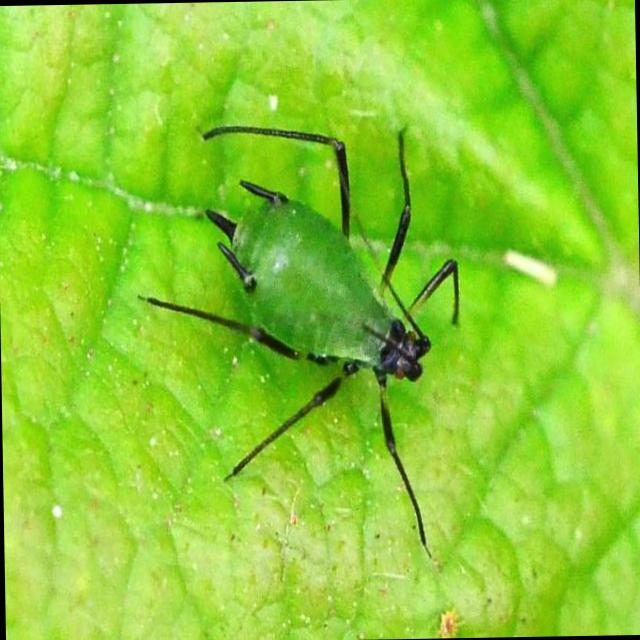aphid: (138, 87, 484, 558)
